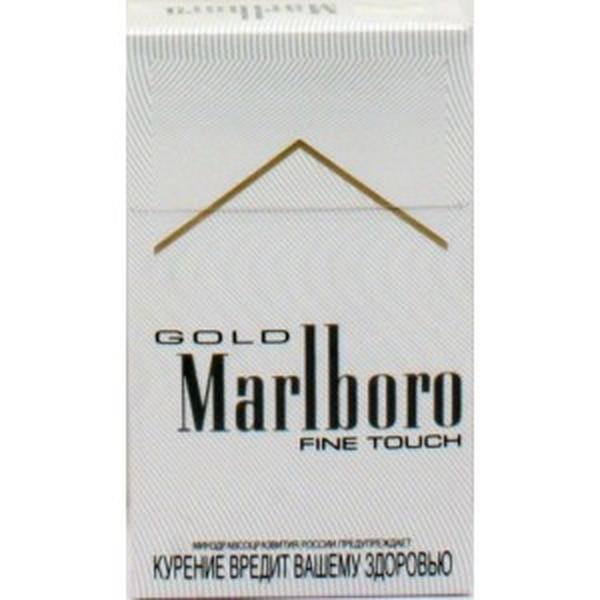marlboro_gold: (132, 41, 467, 600)
